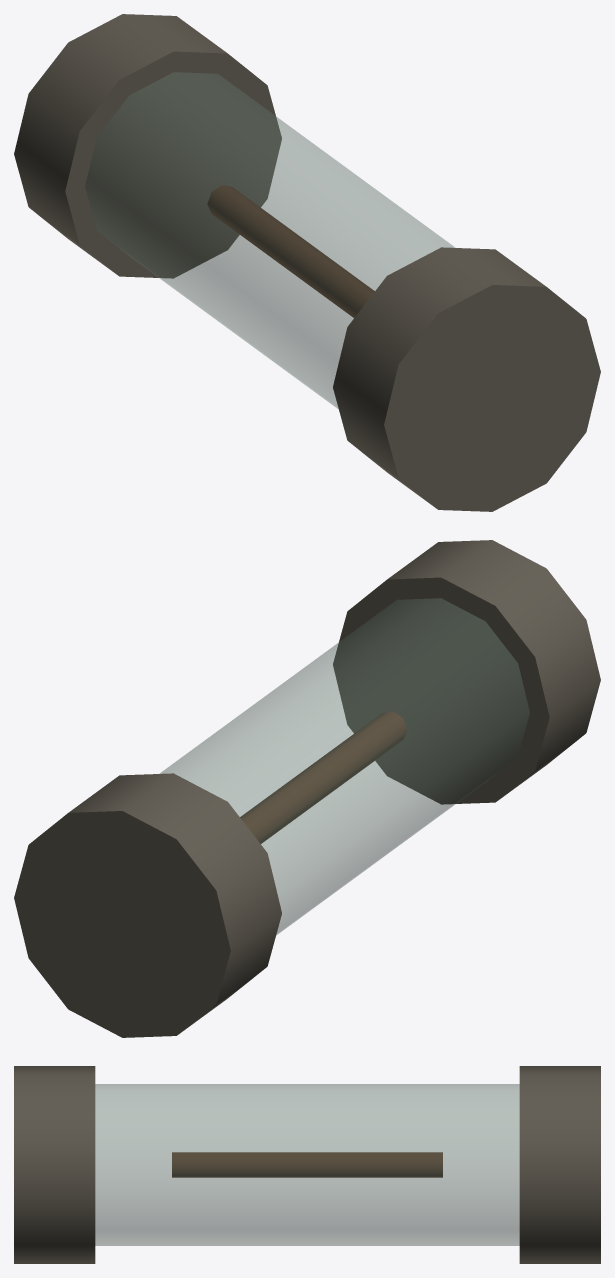
File: glass_fuse_1980s.glb
3 views of the same model, one above another, from view 1: azimuth 30°, elevation 25°; view 2: azimuth 150°, elevation 25°; view 3: azimuth 270°, elevation 25° (orthographic). The views are drawn at different scales.
Parts seen in each view (by area): view 1: glass__glass_core, metal__brass_contact_front, metal__brass_contact_back, rust__filament; view 2: glass__glass_core, metal__brass_contact_back, metal__brass_contact_front, rust__filament; view 3: glass__glass_core, metal__brass_contact_front, metal__brass_contact_back, rust__filament.
Part boxes in pixels (x1,y1,x2,y2): glass__glass_core: (85, 72, 455, 408); metal__brass_contact_front: (333, 247, 600, 511); metal__brass_contact_back: (14, 14, 281, 278); rust__filament: (207, 185, 374, 317); glass__glass_core: (159, 598, 529, 935); metal__brass_contact_back: (14, 773, 281, 1037); metal__brass_contact_front: (333, 540, 600, 804); rust__filament: (240, 711, 407, 843); glass__glass_core: (95, 1084, 519, 1245); metal__brass_contact_front: (14, 1066, 95, 1263); metal__brass_contact_back: (519, 1066, 600, 1263); rust__filament: (172, 1152, 442, 1177).
Bounding box in the file's own units: 0.044 × 0.044 × 0.13.
